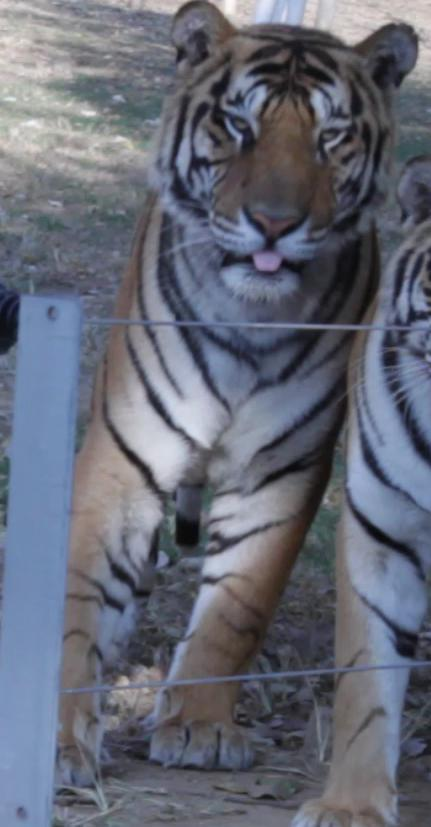tiger: (61, 0, 417, 767)
